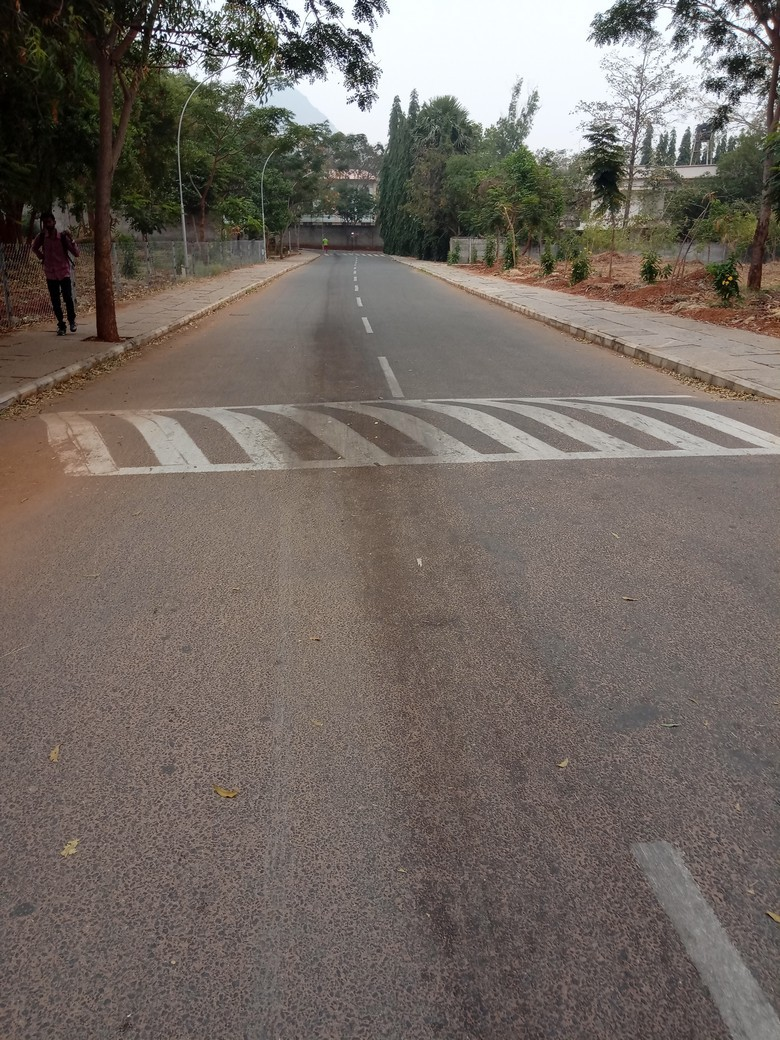bump: (1, 396, 780, 475)
